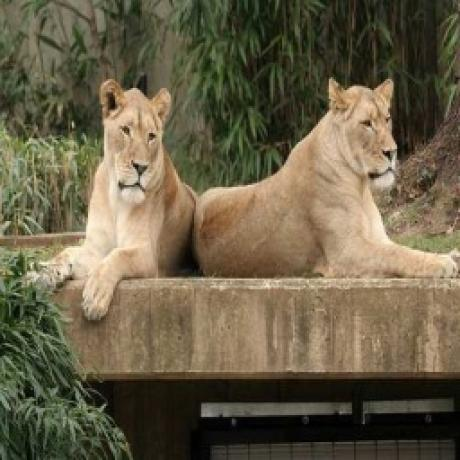Lion: (194, 78, 460, 277), (17, 78, 196, 323)
